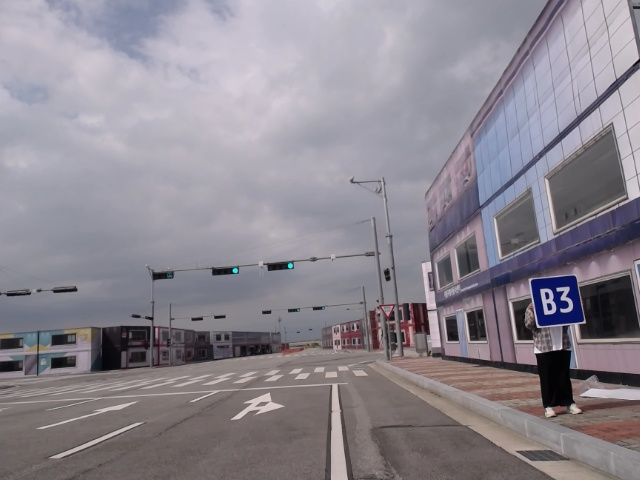delivery_b3: (527, 277, 589, 327)
straight_green_4: (208, 264, 241, 278), (264, 260, 296, 273), (286, 307, 302, 314), (312, 305, 328, 312)
